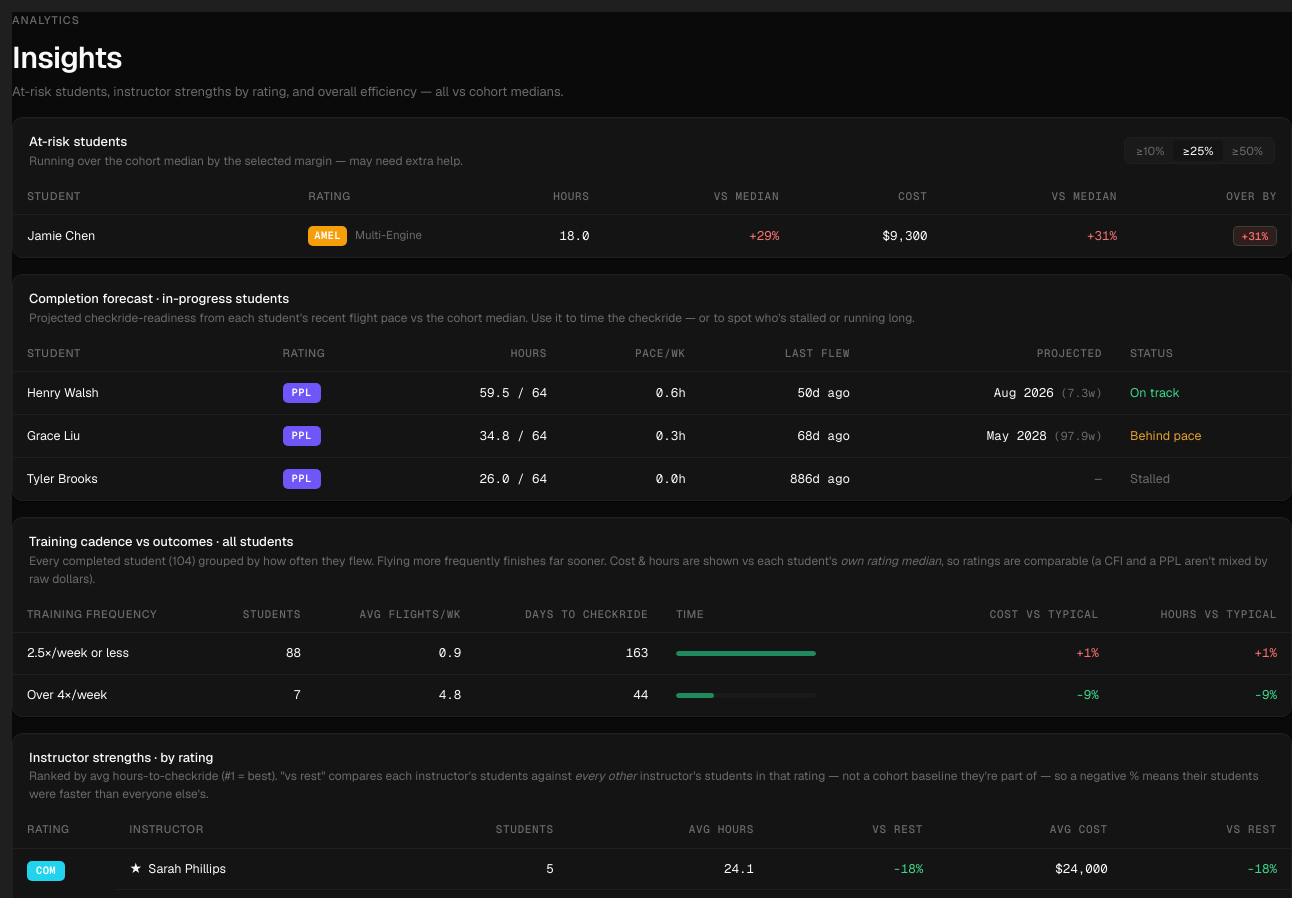
Test case: threshold toggle refetches and can empty the at-risk list
Check: the text "Jamie Chen" is shown, box [13,215,294,257]
Click the button "≥50%" at (1247, 151), box [1223,140,1272,161]
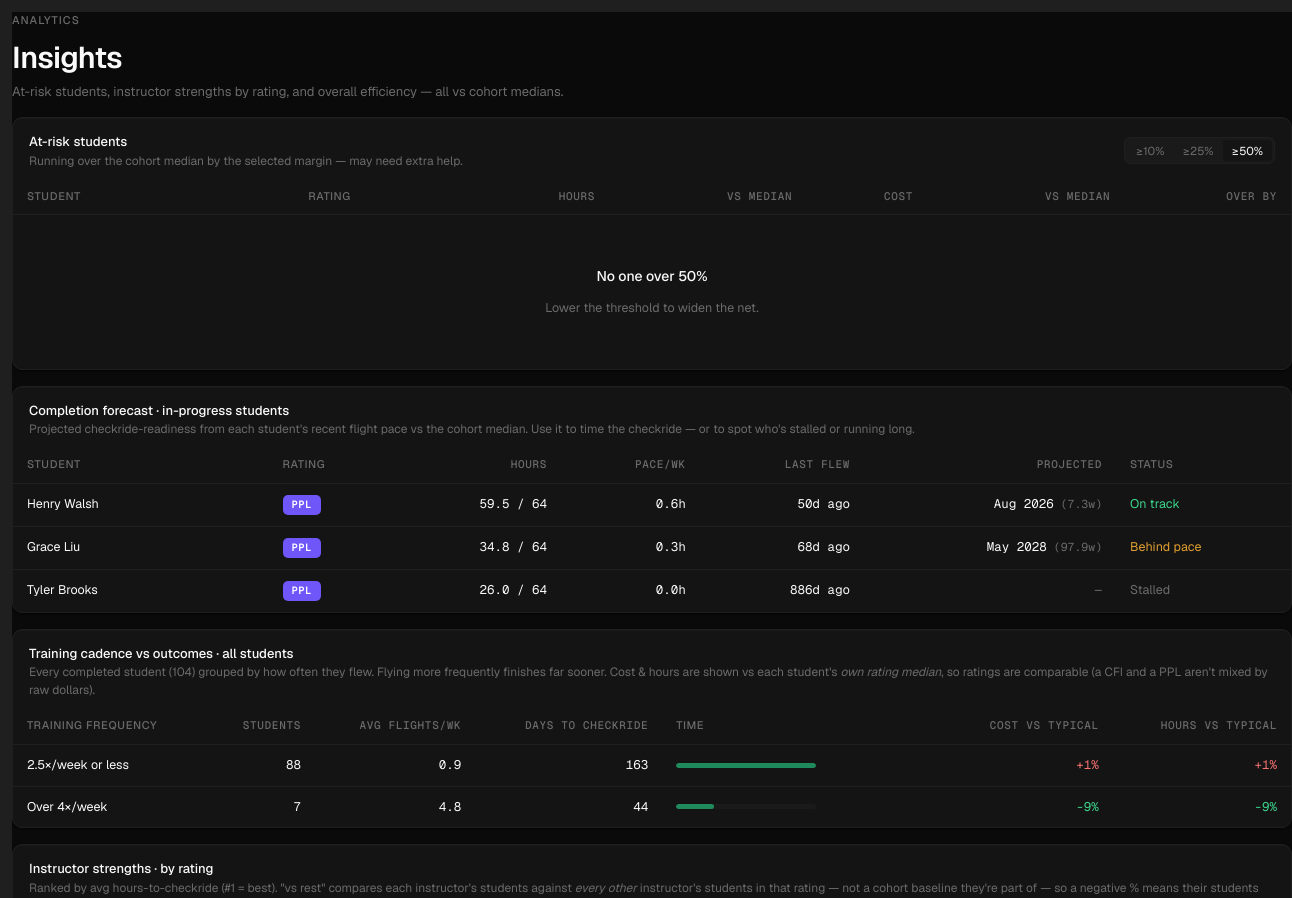
Check: the text "No one over 50%" is shown, box [596,266,708,287]
Check: the text "Jamie Chen" is gone
